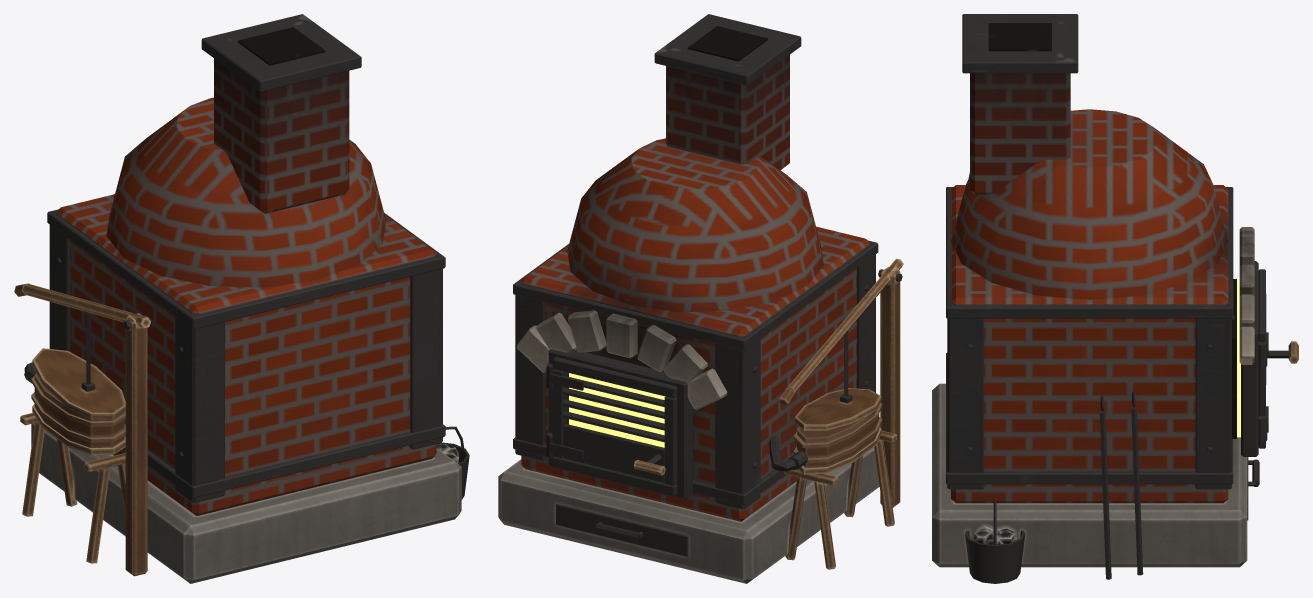
The model's file is horno_forja.fbx.
The picture shows the model from 3 angles, left to right: view 1: azimuth 30°, elevation 25°; view 2: azimuth 150°, elevation 25°; view 3: azimuth 270°, elevation 25°; orthographic projection. The views are drawn at different scales.
Parts seen in each view (by area): view 1: horno_forja; view 2: horno_forja, horno_forja_puerta, horno_forja_fuego_neon; view 3: horno_forja, horno_forja_puerta, horno_forja_fuego_neon.
Boxes of the visible parts, x1,y1,x2,y2 form: horno_forja: (14, 14, 469, 583); horno_forja: (498, 14, 903, 583); horno_forja_puerta: (546, 357, 677, 496); horno_forja_fuego_neon: (569, 373, 665, 447); horno_forja: (932, 14, 1258, 583); horno_forja_puerta: (1258, 269, 1298, 448); horno_forja_fuego_neon: (1237, 280, 1240, 437).
Bounding box in the file's own units: 3.24 × 4.1 × 2.91.
2 materials, 1 textured.
